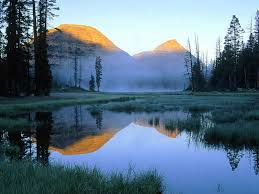lake: (20, 94, 259, 191)
mountain: (46, 22, 202, 89)
tree: (197, 9, 259, 96), (3, 1, 64, 87)
